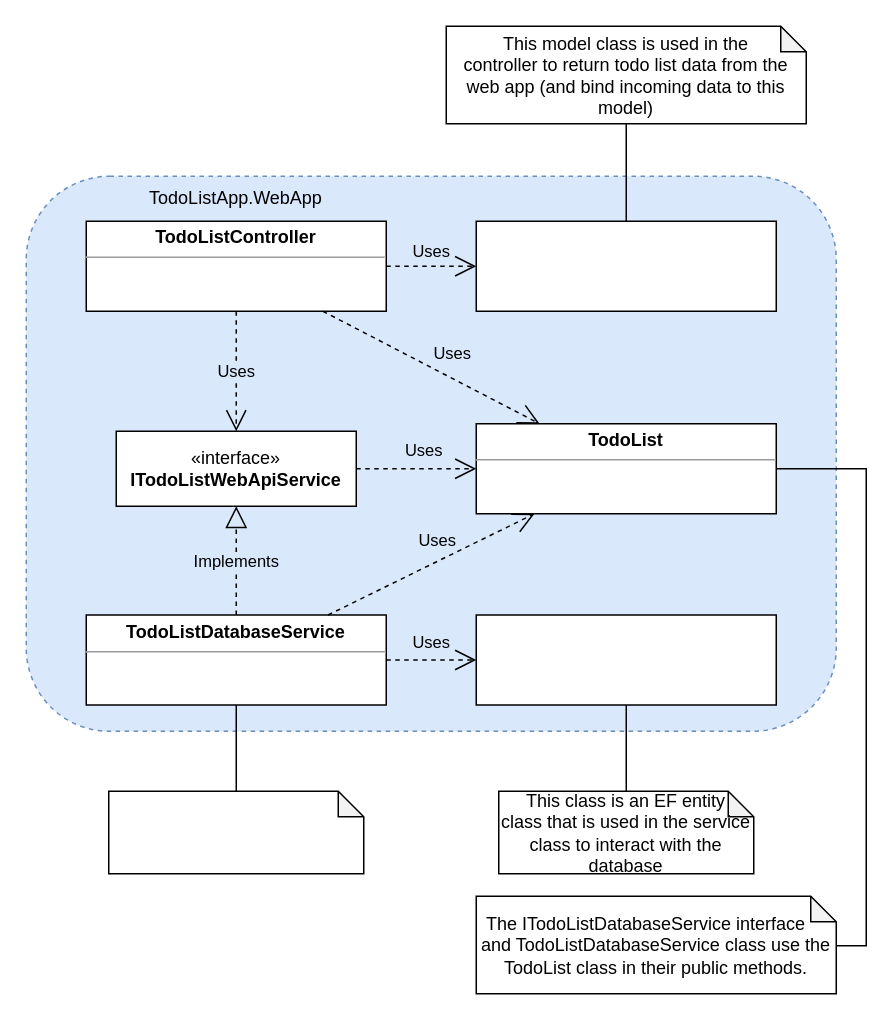
Some shapes in this 894 by 1020 pixel diagram are drawn without their labels. Here are the shapes that lost their labels. From the top down, the centre of each, then its label:
the point at 625,265: TodoListModel
the point at 625,659: TodoListEntity
the point at 235,832: Uses the application database as the data source
